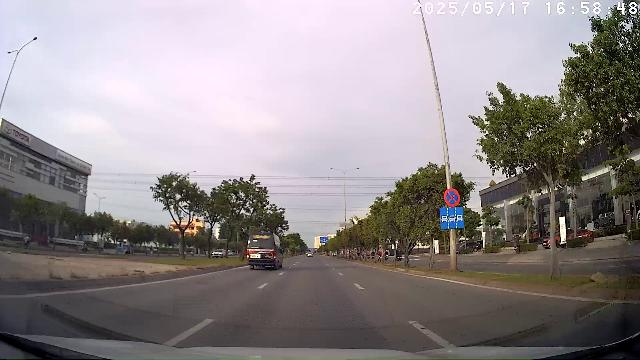130-cam-dung-va-do-xe: (444, 188, 460, 207)
